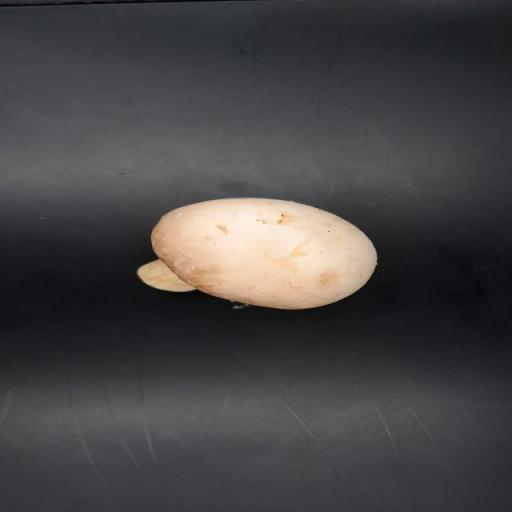mushroom: (134, 186, 384, 320)
